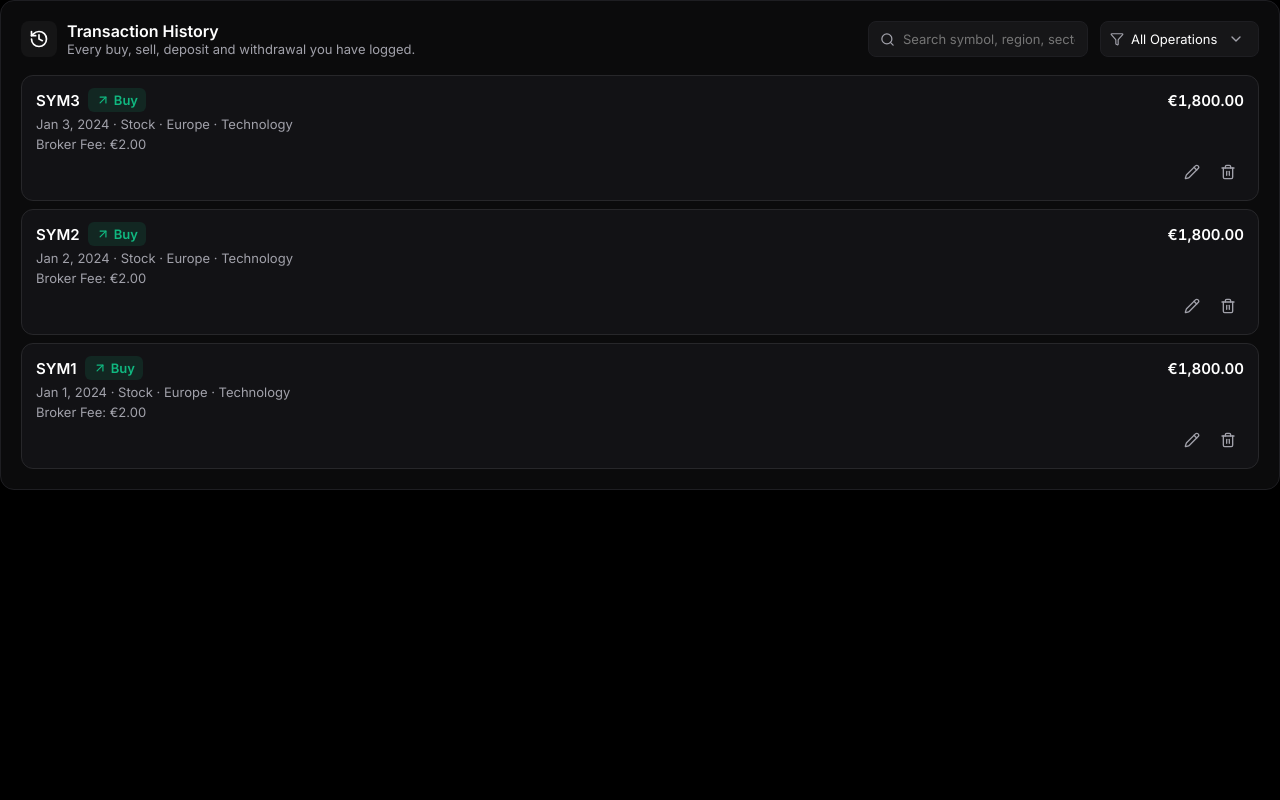
Test: removing a transaction › asks once, in words, what it removes and what is recalculated, and removes nothing yet
Step 1. Click the button named "Delete Buy SYM2, Jan 2, 2024" → point(1228, 306), box x1=1212 y1=290 x2=1244 y2=322
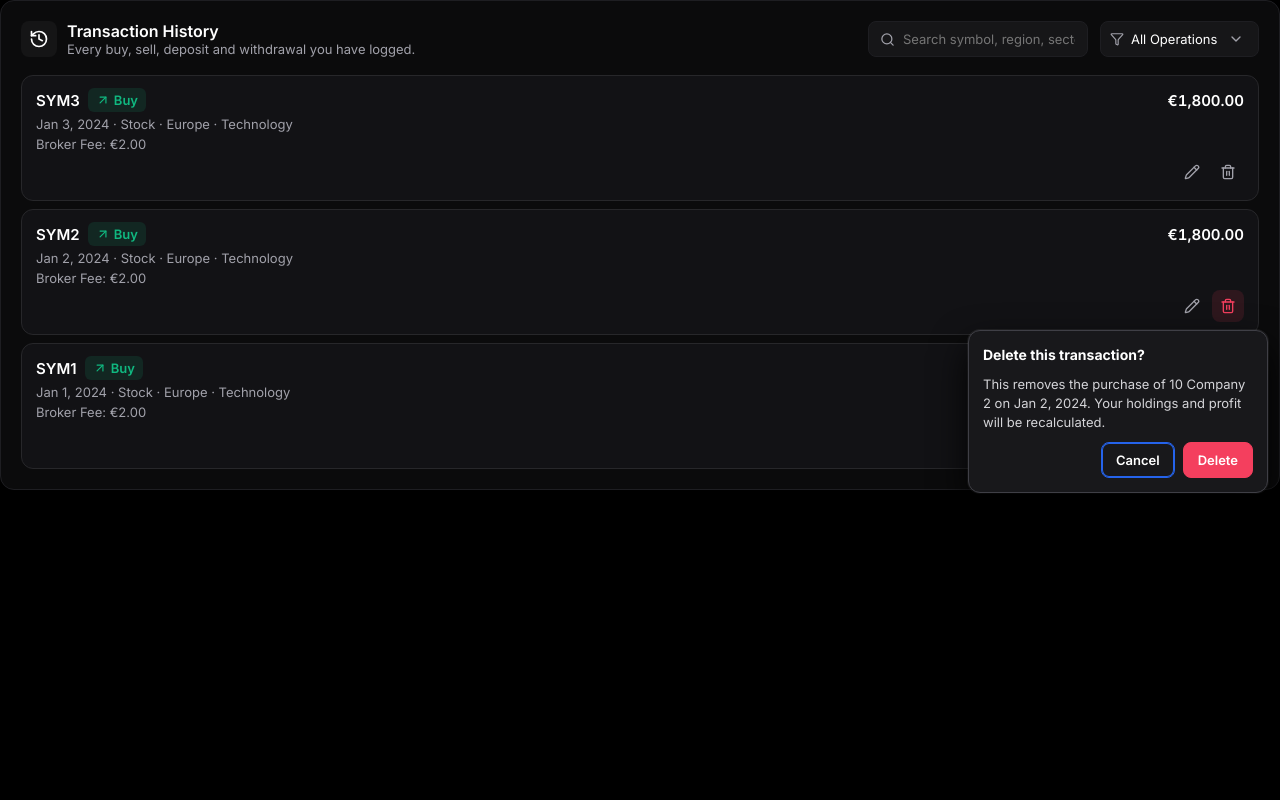
Expected: the text "This removes the purchase of 10 Company 2 on Jan 2, 2024. Your holdings and profit will be recalculated." is shown, x1=983 y1=376 x2=1245 y2=430
